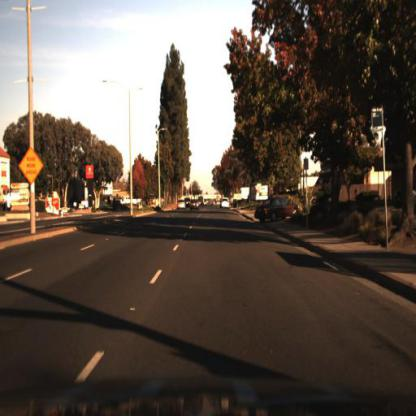car: (251, 193, 303, 223), (220, 195, 233, 213), (176, 198, 189, 214), (190, 195, 200, 213)
